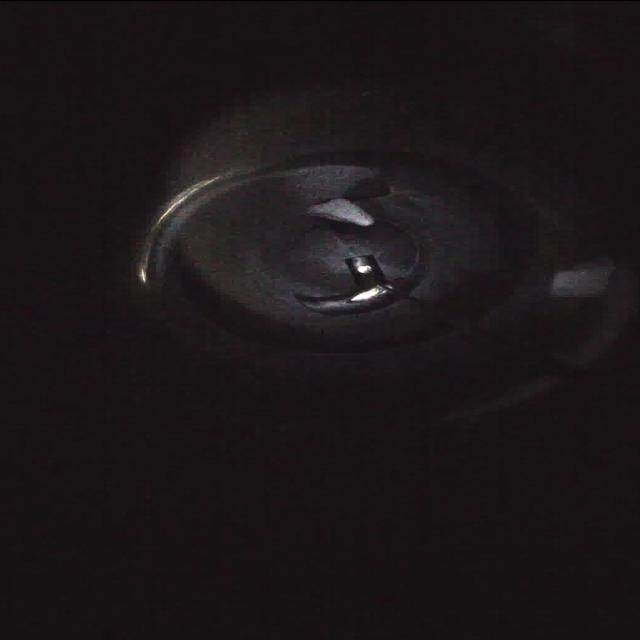impurity: (298, 190, 381, 232)
